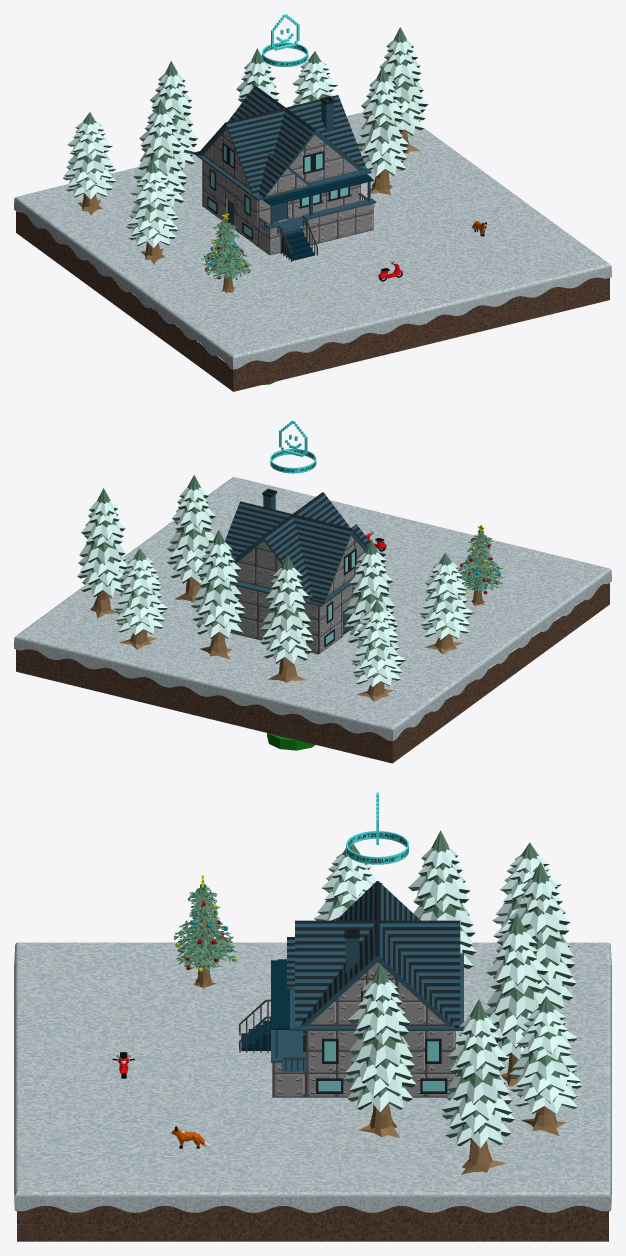
3 renders of one model, top to bottom at view 1: azimuth 30°, elevation 25°; view 2: azimuth 150°, elevation 25°; view 3: azimuth 270°, elevation 25°, orthographic. The views are drawn at different scales.
Parts seen in each view (by area): view 1: Cube.003, Cube.078, OBJRANDOM_CHRISTMAS_TREE, TYPE_PREMIUM; view 2: Cube.003, Cube.078, OBJRANDOM_CHRISTMAS_TREE, TYPE_PREMIUM, UNDERGROUND_PIPES; view 3: Cube.003, Cube.078, OBJRANDOM_CHRISTMAS_TREE, TYPE_PREMIUM.
Part boxes in pixels (box(x1,y1,x2,y2)): Cube.003: box(14, 27, 611, 391); Cube.078: box(194, 85, 376, 261); OBJRANDOM_CHRISTMAS_TREE: box(201, 212, 251, 292); TYPE_PREMIUM: box(262, 14, 308, 66); Cube.003: box(14, 475, 611, 763); Cube.078: box(225, 489, 388, 654); OBJRANDOM_CHRISTMAS_TREE: box(458, 525, 503, 605); TYPE_PREMIUM: box(270, 420, 316, 473); UNDERGROUND_PIPES: box(267, 733, 315, 750); Cube.003: box(14, 830, 611, 1241); Cube.078: box(239, 881, 463, 1097); OBJRANDOM_CHRISTMAS_TREE: box(173, 875, 237, 989); TYPE_PREMIUM: box(346, 792, 408, 864).
Bounding box in the file's own units: 4040 × 3051 × 4040.
33 materials, 6 textured.
